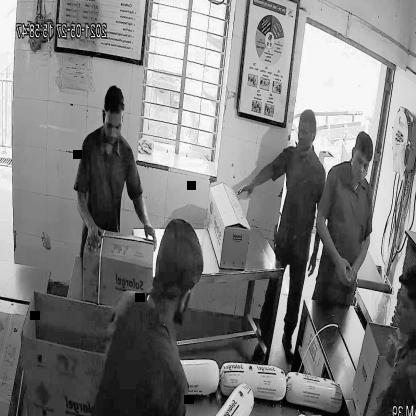no_goggles: (100, 113, 126, 136), (349, 150, 375, 172)
